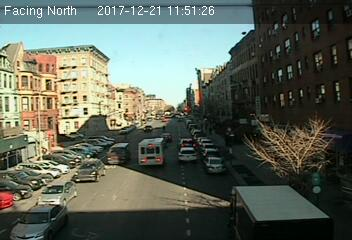car: (8, 205, 70, 240), (37, 180, 78, 205), (76, 158, 106, 181), (107, 143, 130, 164), (204, 156, 227, 174), (179, 146, 196, 162), (179, 137, 195, 146)
truck: (138, 137, 167, 168)
ups: (226, 184, 333, 239)
